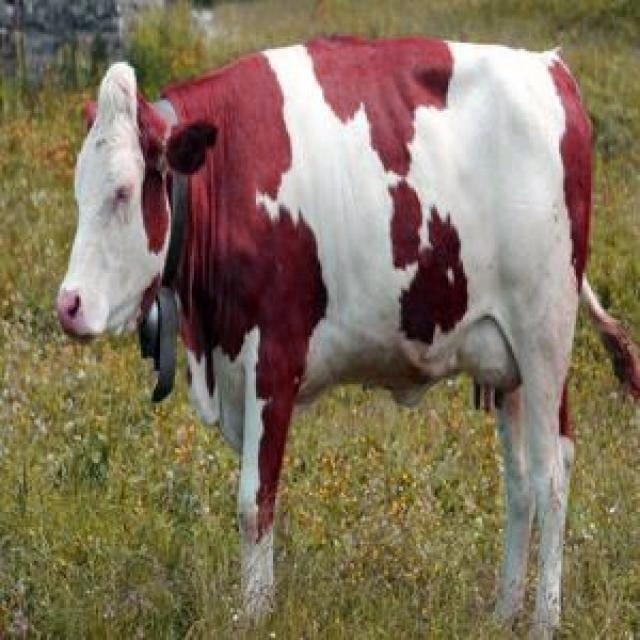cow: (56, 36, 640, 640)
